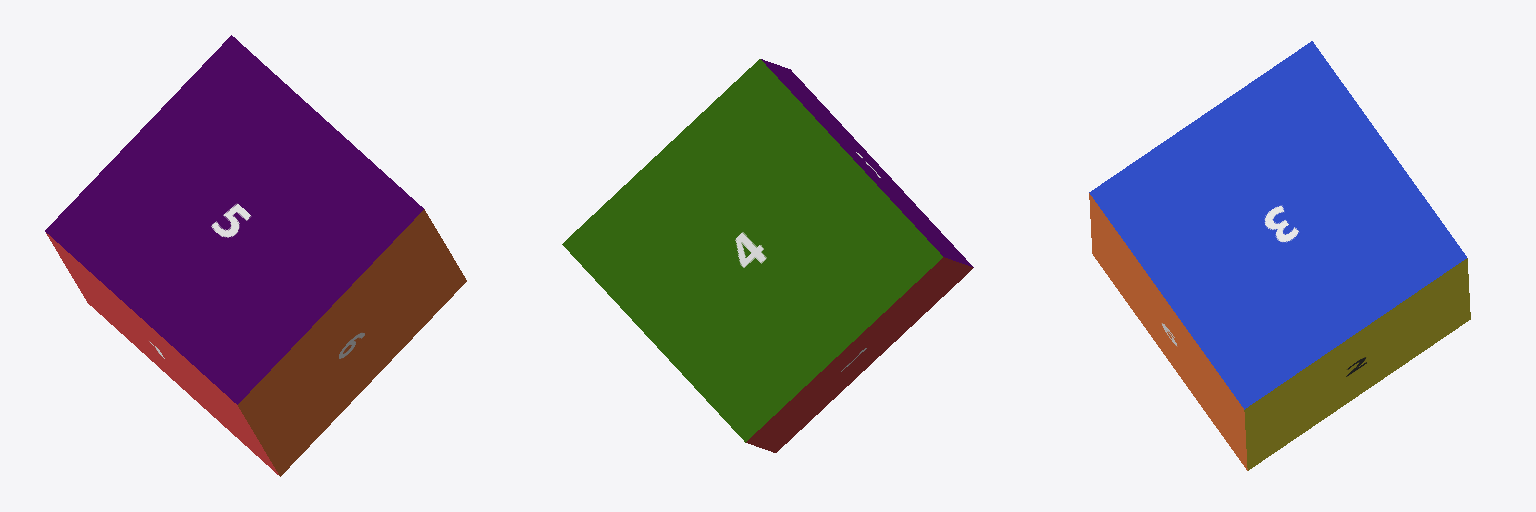
3 renders of one model, left to right at view 1: azimuth 30°, elevation 25°; view 2: azimuth 150°, elevation 25°; view 3: azimuth 270°, elevation 25°, orthographic.
Visible parts, largest first — view 1: polySurface1; view 2: polySurface1; view 3: polySurface1.
Part boxes in pixels (left/top/right/bottom): polySurface1: left=45, top=35, right=466, bottom=476; polySurface1: left=562, top=59, right=973, bottom=452; polySurface1: left=1089, top=41, right=1470, bottom=470.
Size of the model in its own units: 20.01 by 20.87 by 17.1.
Materials: 6 (6 with a texture image).